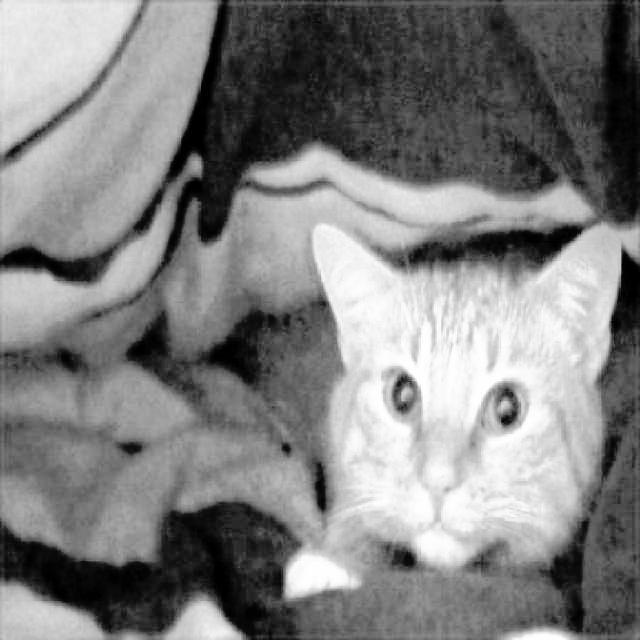Cat: (285, 212, 625, 605)
